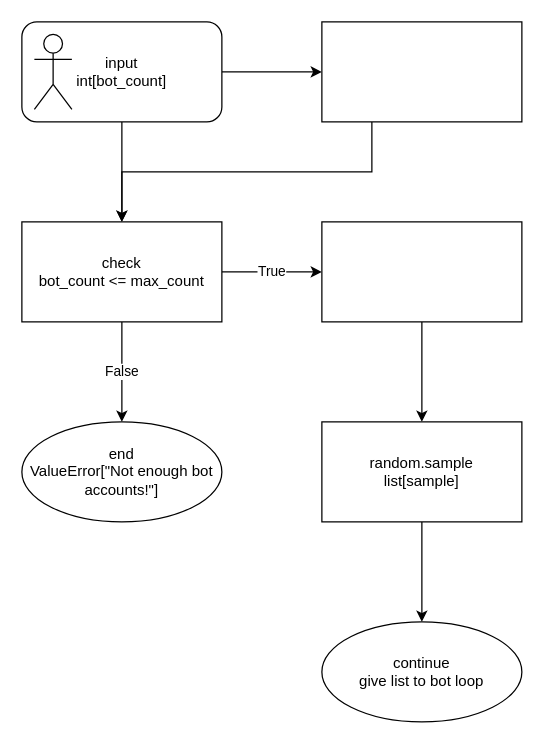
The diagram is 544 pixels wide and 744 high, and some of its shapes have lost their labels. Here are the shapes that lost their labels. From the top down, the centre of each, then its label:
At (x=421, y=71): "get int[max_count]".
At (x=421, y=271): "create list[1-bot_count]".
